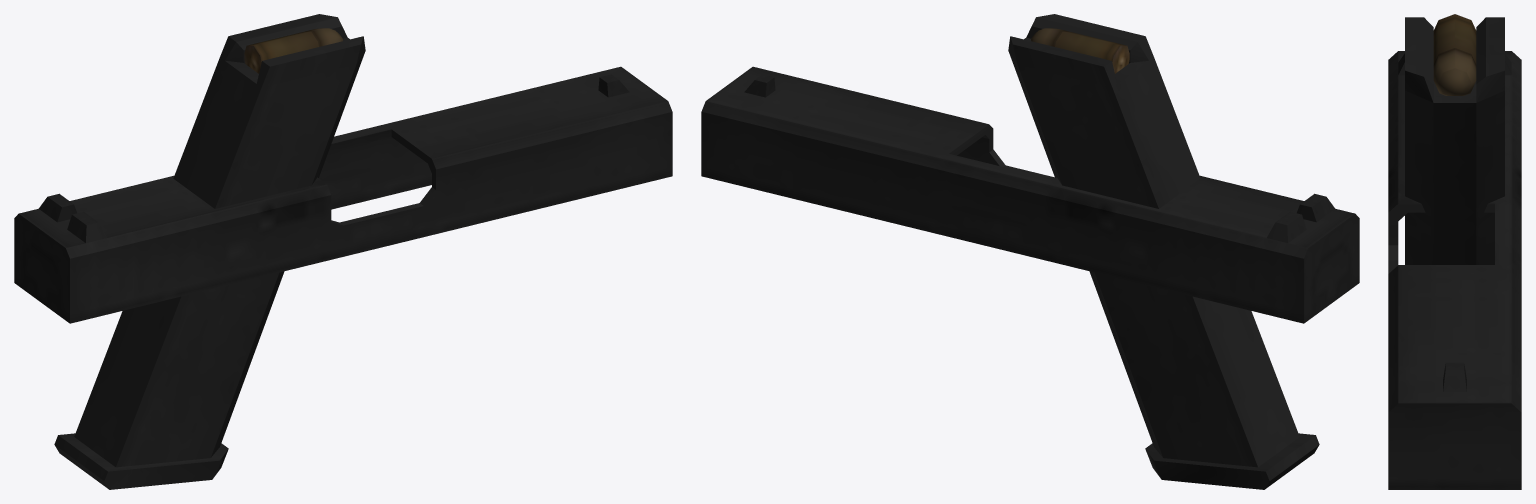
Rendered from pistol_mp_1.obj.
The picture shows the model from 3 angles, left to right: view 1: azimuth 30°, elevation 25°; view 2: azimuth 150°, elevation 25°; view 3: azimuth 270°, elevation 25°; orthographic projection. The views are drawn at different scales.
Parts seen in each view (by area): view 1: pistol_mp_1_slide, pistol_mp_1_mag_initial; view 2: pistol_mp_1_slide, pistol_mp_1_mag_initial; view 3: pistol_mp_1_slide, pistol_mp_1_mag_initial.
Boxes of the visible parts, left/top/right/bottom form: pistol_mp_1_slide: left=14, top=66, right=672, bottom=323; pistol_mp_1_mag_initial: left=54, top=14, right=365, bottom=489; pistol_mp_1_slide: left=701, top=66, right=1359, bottom=323; pistol_mp_1_mag_initial: left=1008, top=14, right=1319, bottom=489; pistol_mp_1_slide: left=1388, top=51, right=1521, bottom=489; pistol_mp_1_mag_initial: left=1405, top=14, right=1504, bottom=264.
Bounding box in the file's own units: 257 × 164 × 40.96.
Materials: 2 (2 with a texture image).
